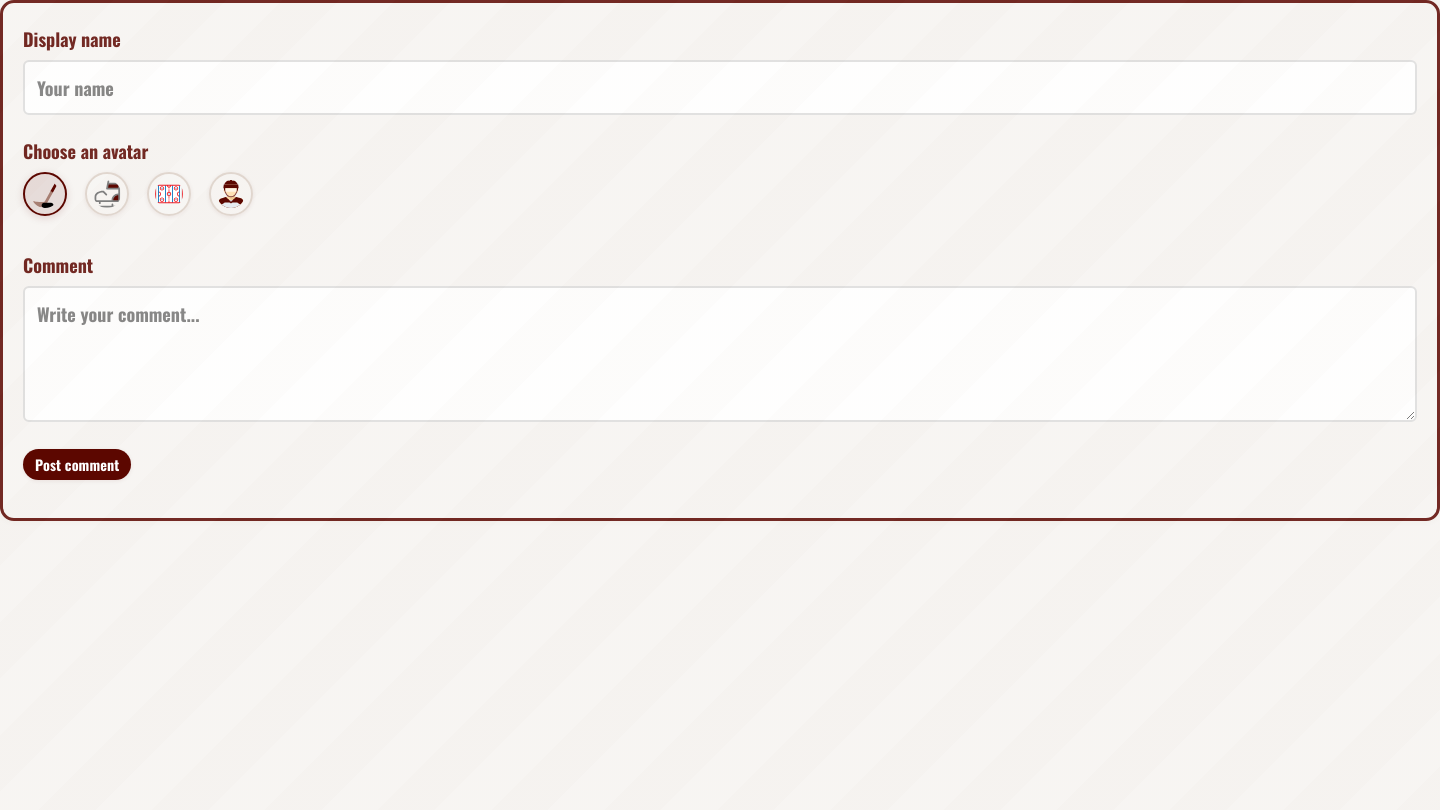
Scenario: CommentForm › shows validation error when display name is missing
This screenshot has width=1440, height=810.
Type "Hello world" into the text box labelled "Comment". click: [720, 354]
box: [23,286,1417,422]
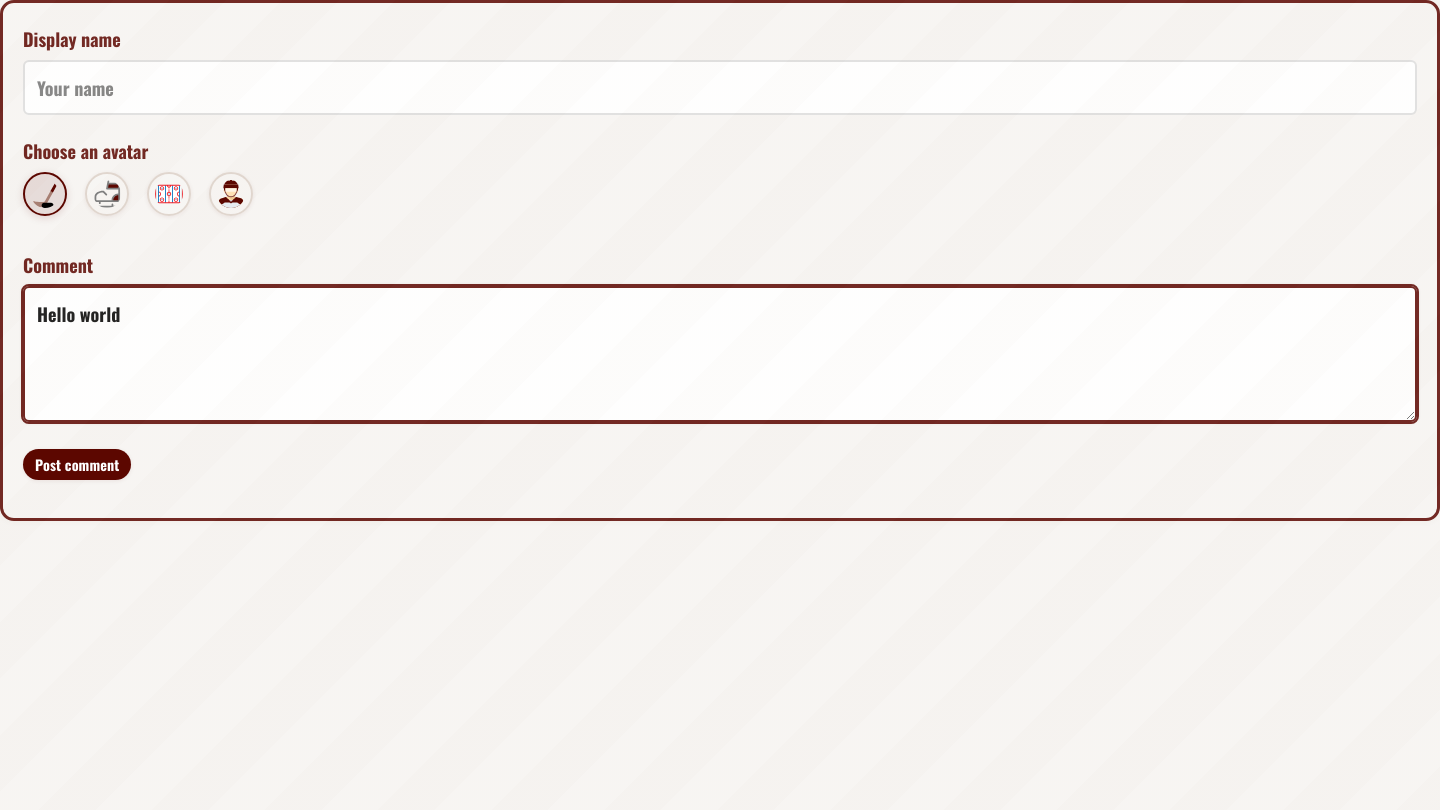
Click the button "Post comment". click: [77, 464]
box: [23,449,132,480]
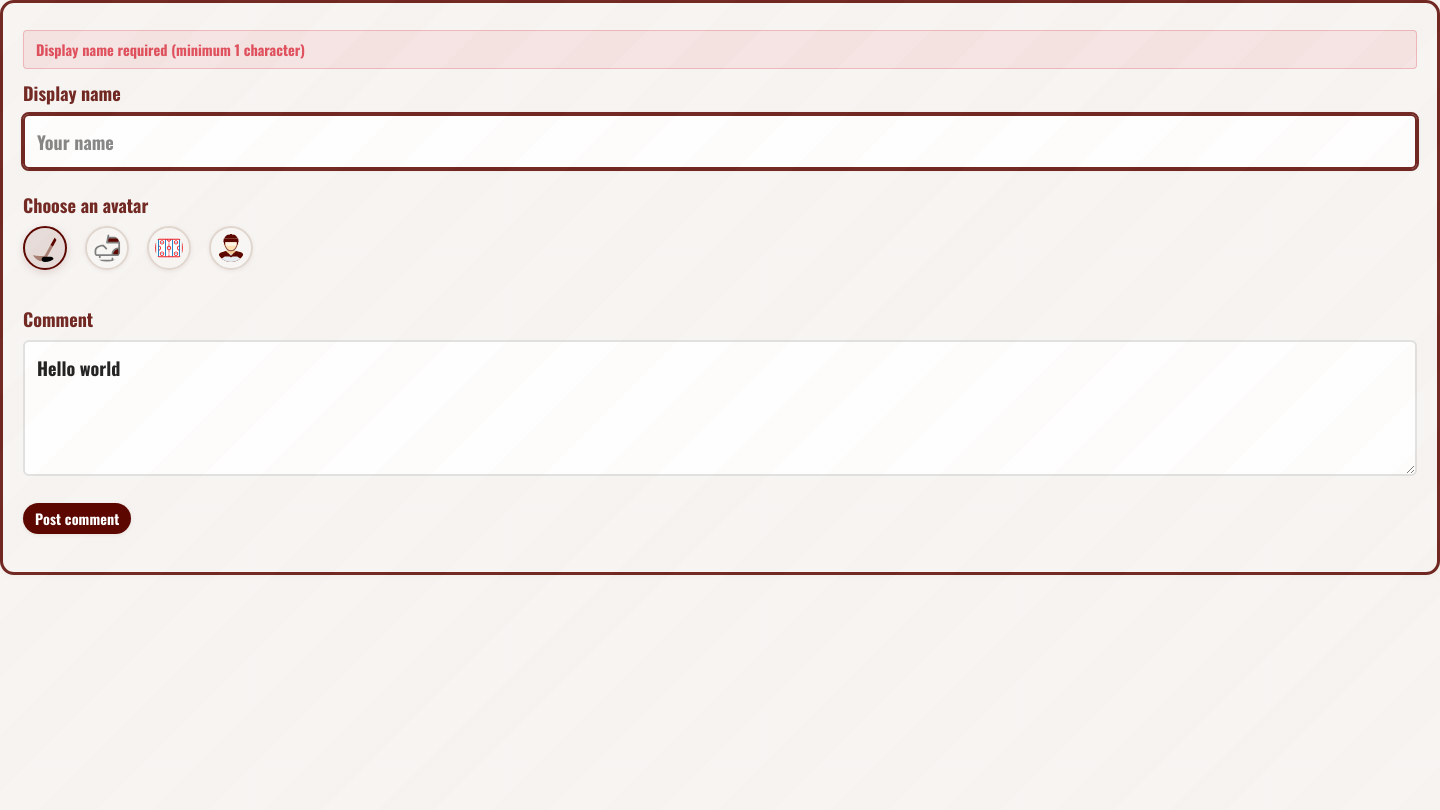
Expected: the message reads "Display name required (minimum 1 character)", [36,39,305,60]
